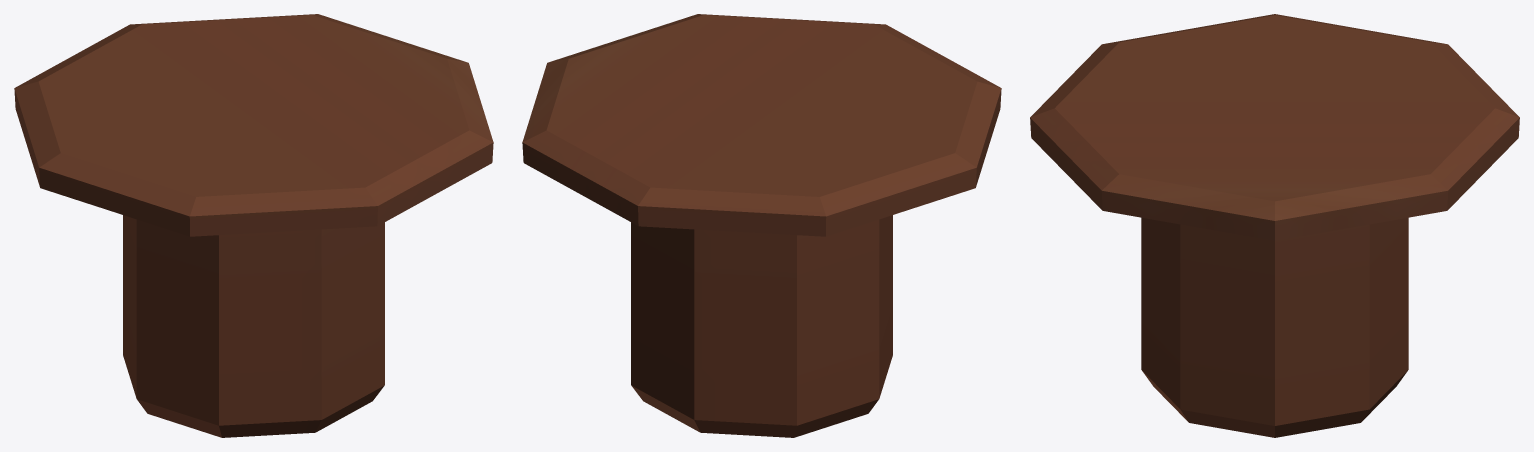
File: round_table.glb
3 renders of one model, left to right at view 1: azimuth 30°, elevation 25°; view 2: azimuth 150°, elevation 25°; view 3: azimuth 270°, elevation 25°, orthographic.
Visible parts, largest first — view 1: round_table; view 2: round_table; view 3: round_table.
Boxes of the visible parts, bbox=[...] form: round_table: bbox=[14, 14, 493, 437]; round_table: bbox=[522, 14, 1001, 437]; round_table: bbox=[1030, 14, 1519, 437].
Bounding box in the file's own units: 1.14 × 0.7136 × 1.14.
Materials: 1 (1 with a texture image).
